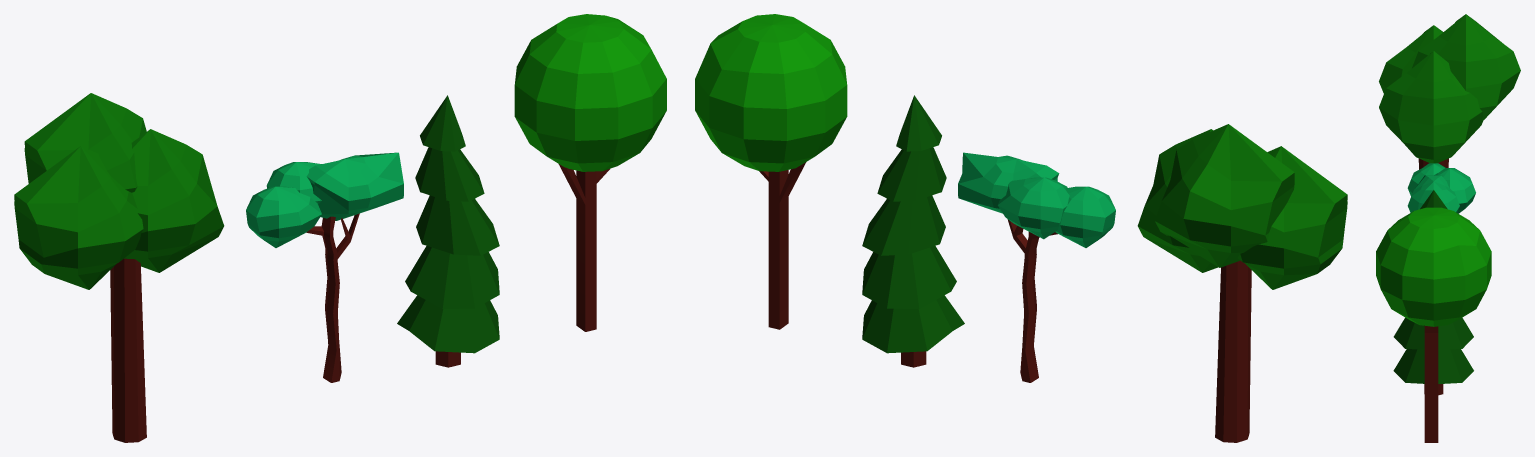
The model's file is trear.fbx.
The picture shows the model from 3 angles, left to right: view 1: azimuth 30°, elevation 25°; view 2: azimuth 150°, elevation 25°; view 3: azimuth 270°, elevation 25°; orthographic projection. The views are drawn at different scales.
Visible parts, largest first — view 1: group10, pSphere5, pCone3, pSphere4; view 2: group10, pSphere5, pCone3, pSphere4; view 3: group10, pSphere5, pCone3, pSphere4.
Part boxes in pixels (box(x1,y1,x2,y2)): group10: box(14, 93, 224, 442); pSphere5: box(514, 14, 666, 331); pCone3: box(397, 95, 499, 367); pSphere4: box(246, 152, 403, 382); group10: box(1137, 124, 1347, 442); pSphere5: box(695, 14, 847, 329); pCone3: box(862, 95, 964, 367); pSphere4: box(958, 152, 1115, 382); group10: box(1379, 14, 1520, 169); pSphere5: box(1376, 207, 1491, 442); pCone3: box(1393, 190, 1473, 395); pSphere4: box(1407, 163, 1475, 213).
Bounding box in the file's own units: 13.78 × 6.94 × 3.59.
